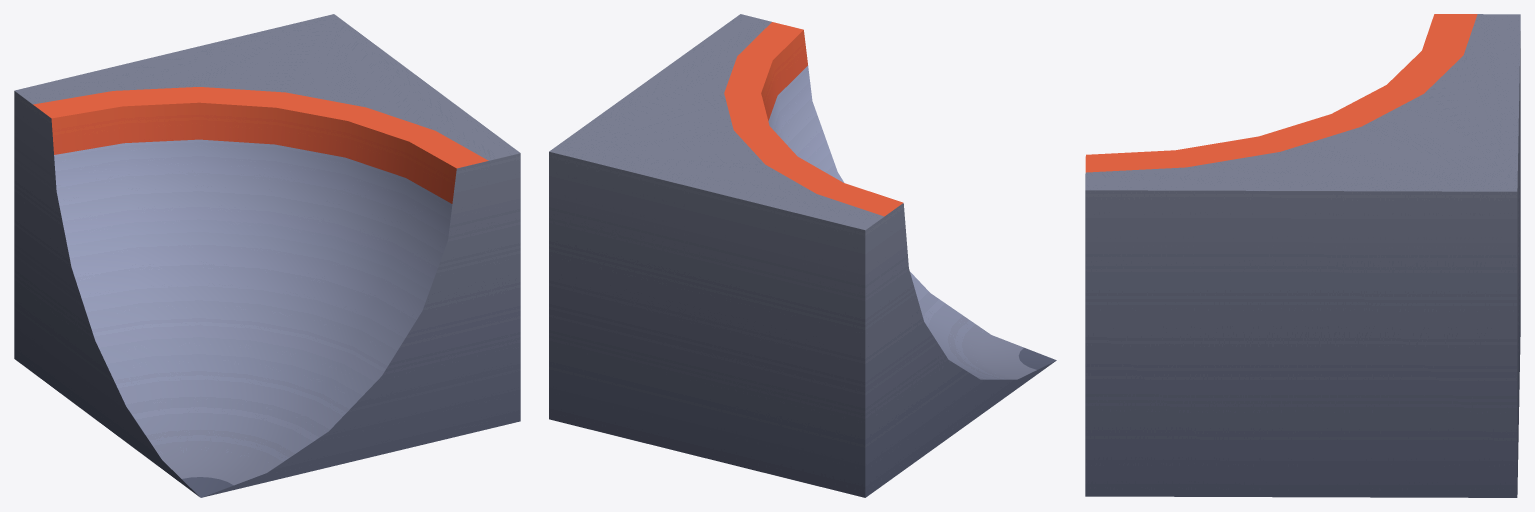
File: bowl-corner-inner_lev2.glb
3 renders of one model, left to right at view 1: azimuth 30°, elevation 25°; view 2: azimuth 150°, elevation 25°; view 3: azimuth 270°, elevation 25°, orthographic. The views are drawn at different scales.
Visible parts, largest first — view 1: bowl-corner-inner_lev2; view 2: bowl-corner-inner_lev2; view 3: bowl-corner-inner_lev2.
Part boxes in pixels (x1,y1,x2,y2): bowl-corner-inner_lev2: [14, 14, 520, 497]; bowl-corner-inner_lev2: [549, 14, 1056, 497]; bowl-corner-inner_lev2: [1085, 14, 1520, 497].
Size of the model in its own units: 3.49 by 2.79 by 3.59.
1 material, 1 textured.
